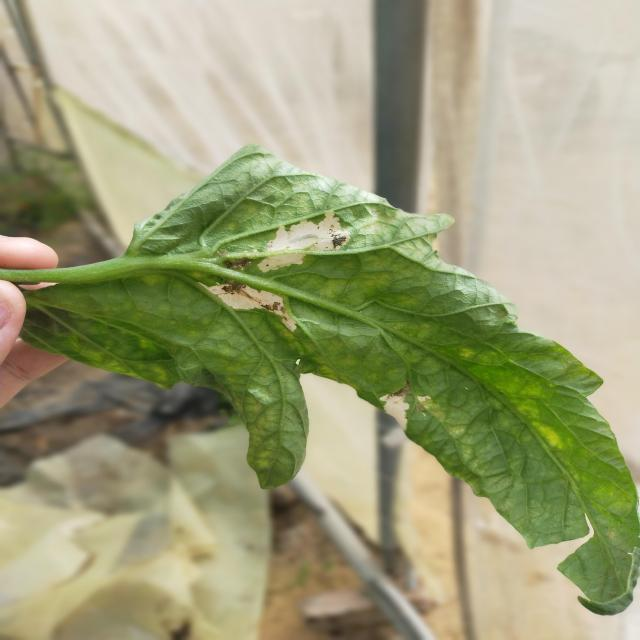Tuta absoluta: (204, 271, 304, 332), (260, 208, 352, 268), (378, 385, 424, 433), (258, 253, 304, 273)
